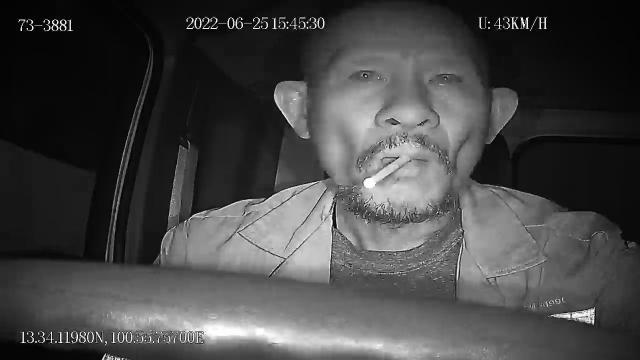SafeDriving: (420, 60, 472, 92), (342, 56, 394, 88)
Smoking: (364, 156, 410, 188)
